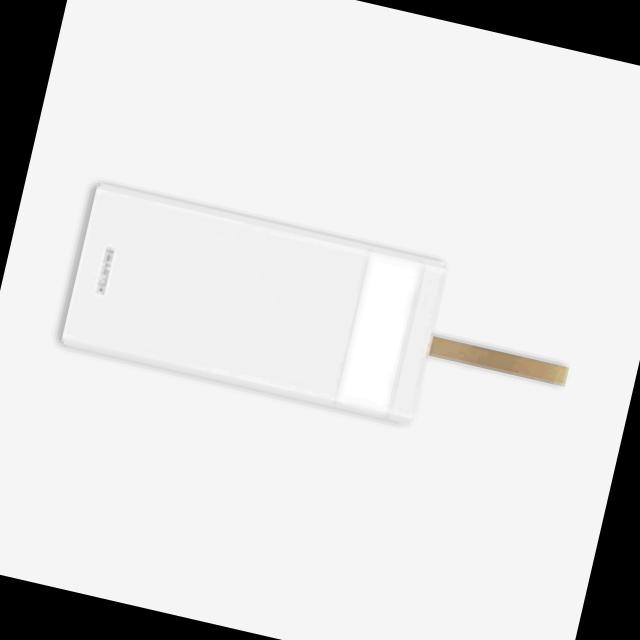power_bank: (44, 172, 454, 436)
